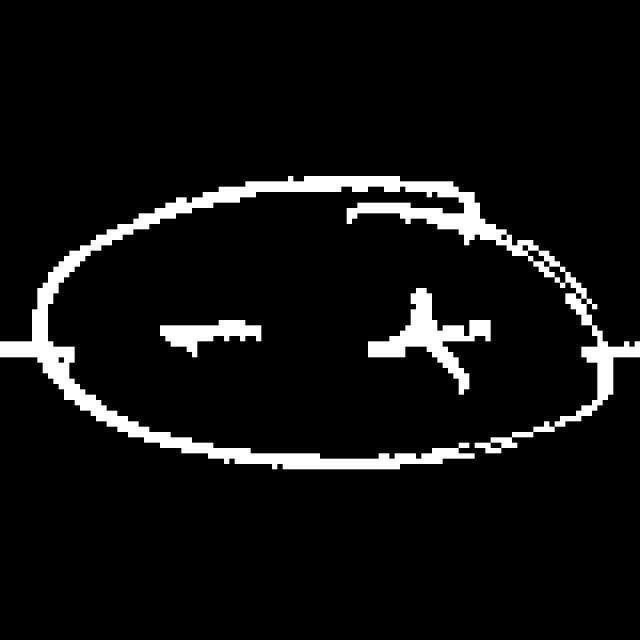voltage_source: (31, 156, 626, 502)
